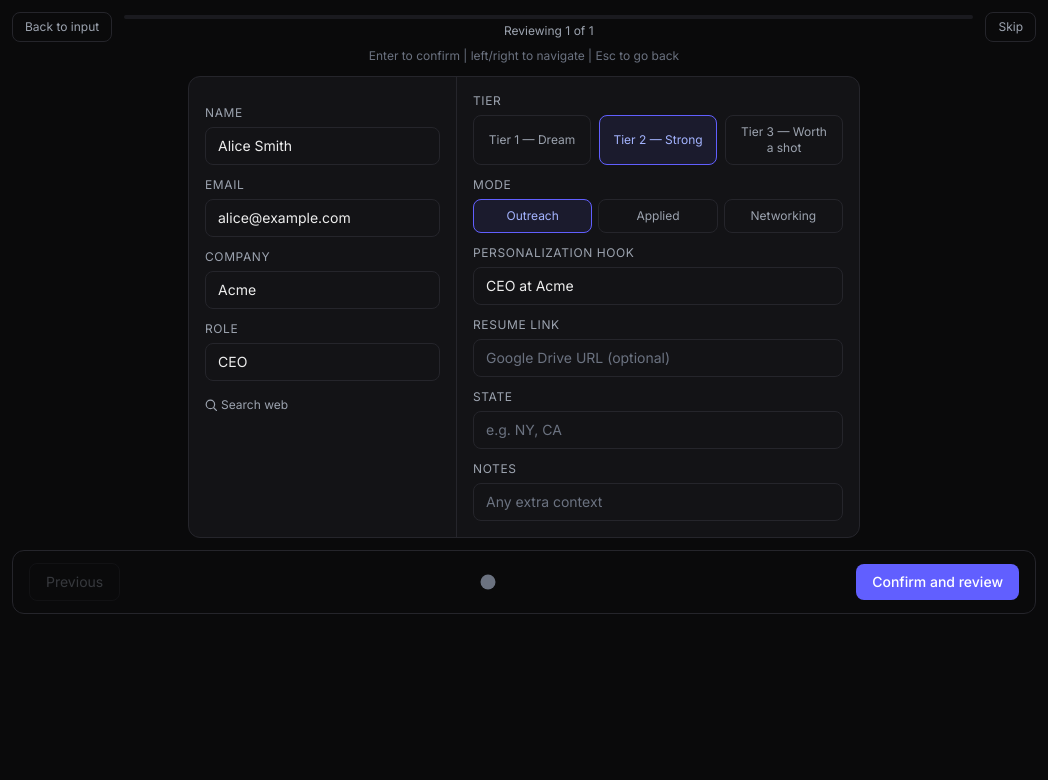
Test: ReviewFlow — summary phase › Import button is disabled when 0 contacts are confirmed
The width and height of the screenshot is (1048, 780).
Click the button "Skip" at [1011, 27], box [986,12,1036,42]
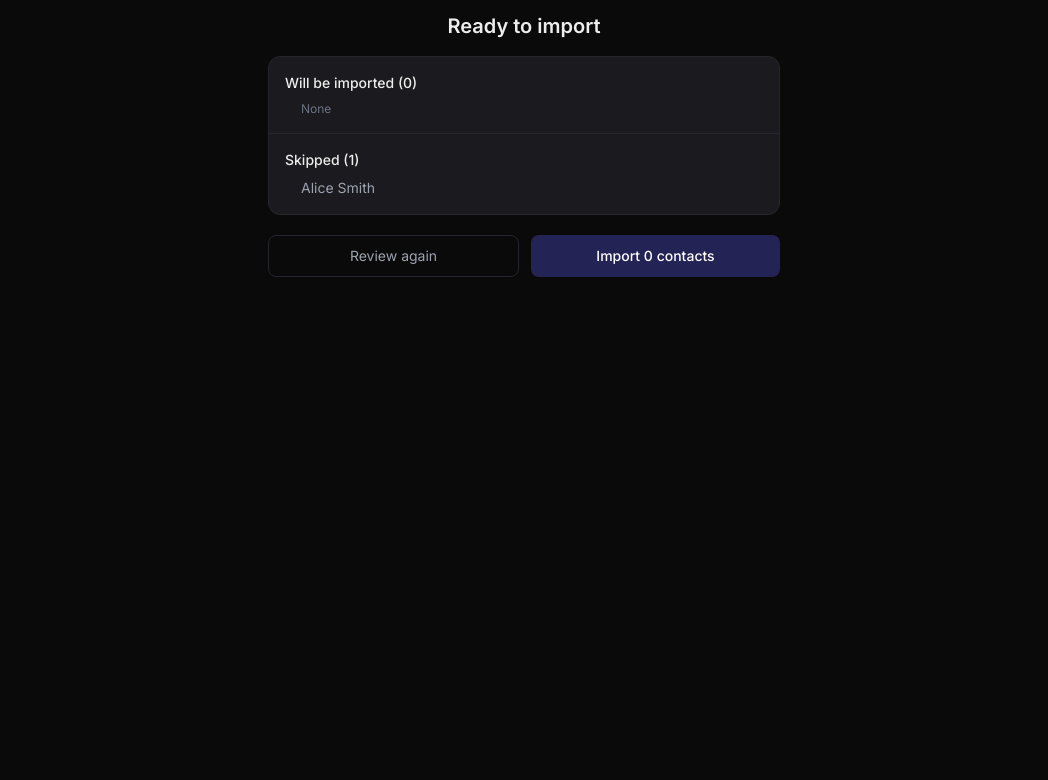
Check: the heading "Ready to import" is shown, box [447,14,600,38]
Check: the button "Import 0 contacts" is disabled, box [531,235,780,277]
